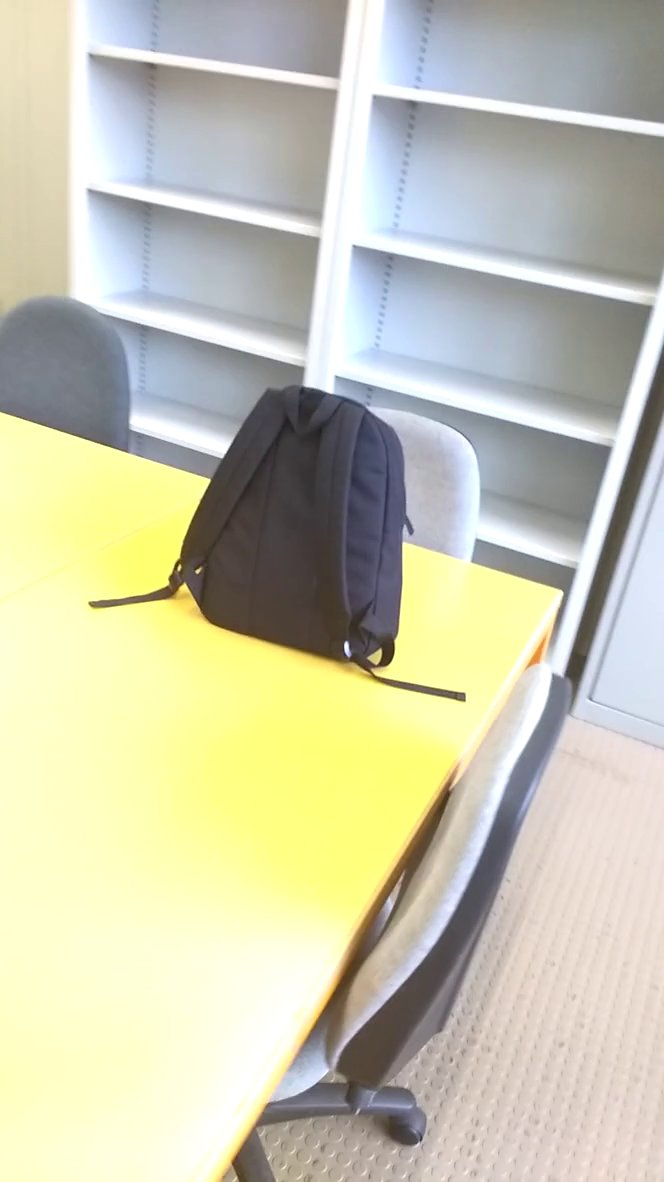bag: (87, 375, 427, 701)
chair: (238, 651, 609, 1172), (2, 289, 138, 484)
